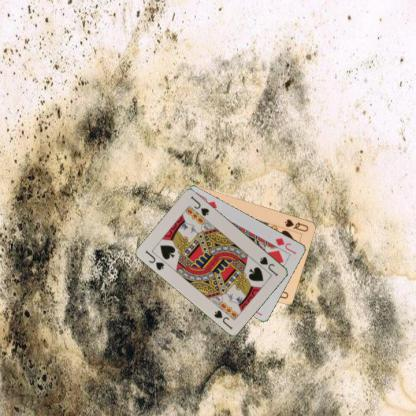Jd: (272, 235, 298, 256)
Js: (257, 254, 280, 277), (143, 248, 166, 271)
Qs: (282, 216, 310, 233)
